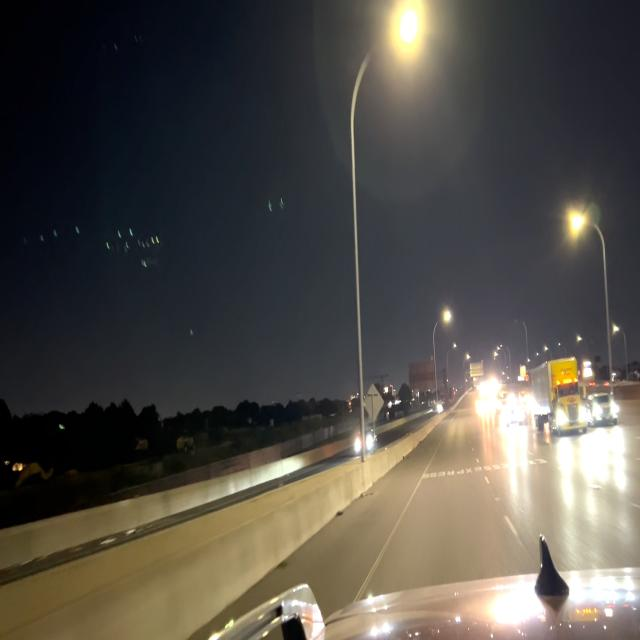back-of-sign: (407, 353, 436, 394), (364, 381, 384, 427)
